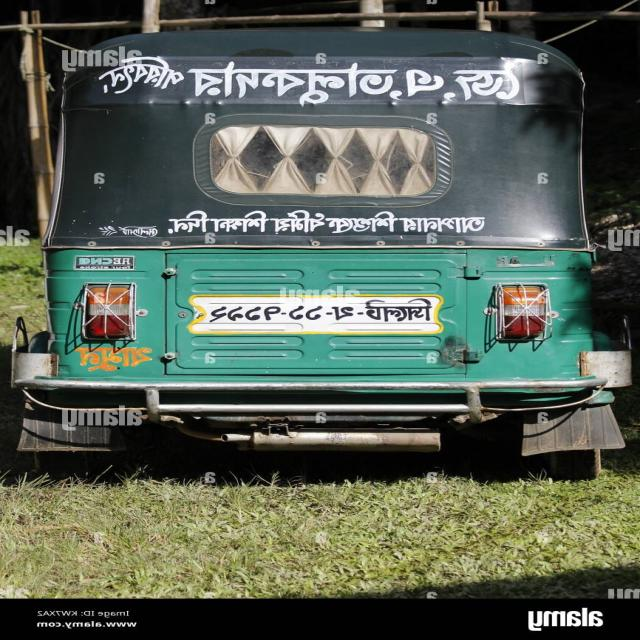CNG: (1, 17, 639, 504)
